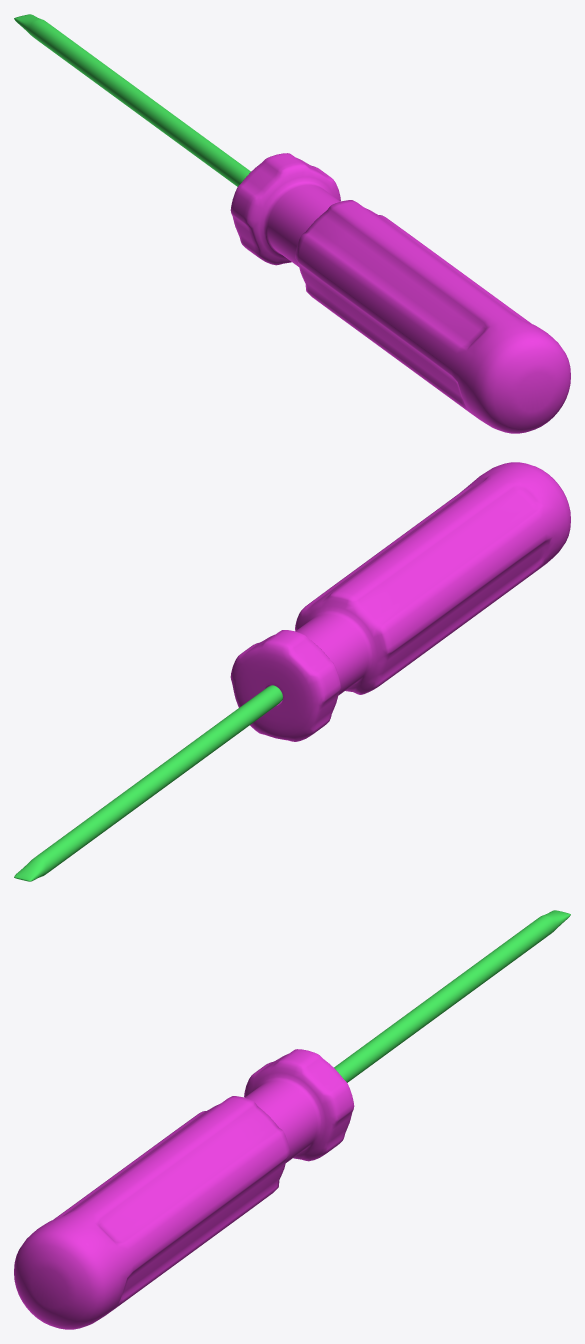
The model's file is Screwdriver.fbx.
3 renders of one model, top to bottom at view 1: azimuth 30°, elevation 25°; view 2: azimuth 150°, elevation 25°; view 3: azimuth 330°, elevation 25°, orthographic.
Parts seen in each view (by area): view 1: Screwdriver; view 2: Screwdriver; view 3: Screwdriver.
Boxes of the visible parts, <box> form: Screwdriver: <box>14,14,570,433</box>; Screwdriver: <box>14,462,570,881</box>; Screwdriver: <box>14,910,570,1329</box>.
Size of the model in its own units: 7.29 by 7.3 by 68.02.
